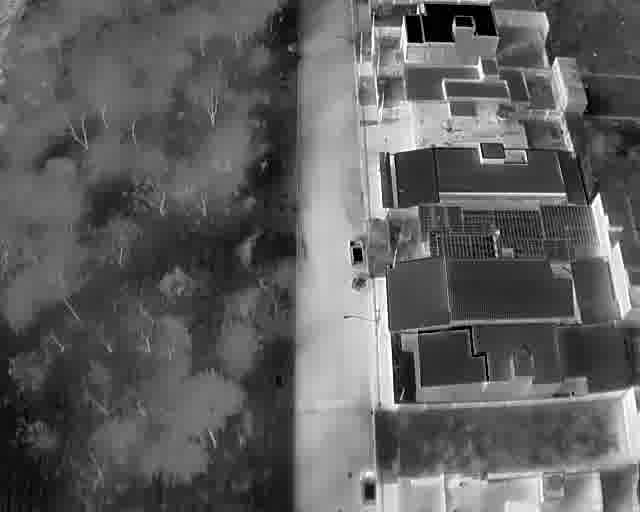car: (360, 470, 378, 508), (348, 239, 366, 266)
